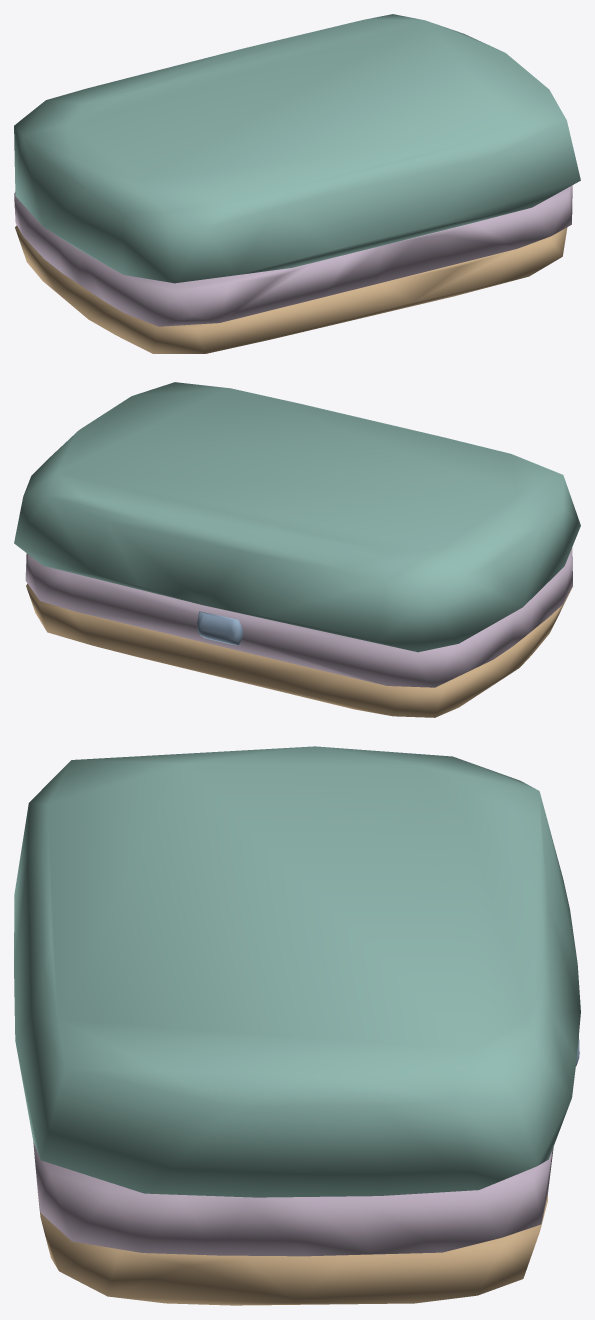
3 views of the same model, one above another, from view 1: azimuth 30°, elevation 25°; view 2: azimuth 150°, elevation 25°; view 3: azimuth 270°, elevation 25° (orthographic). The views are drawn at different scales.
Bounding box in the file's own units: 1.82 × 0.5831 × 1.23.
